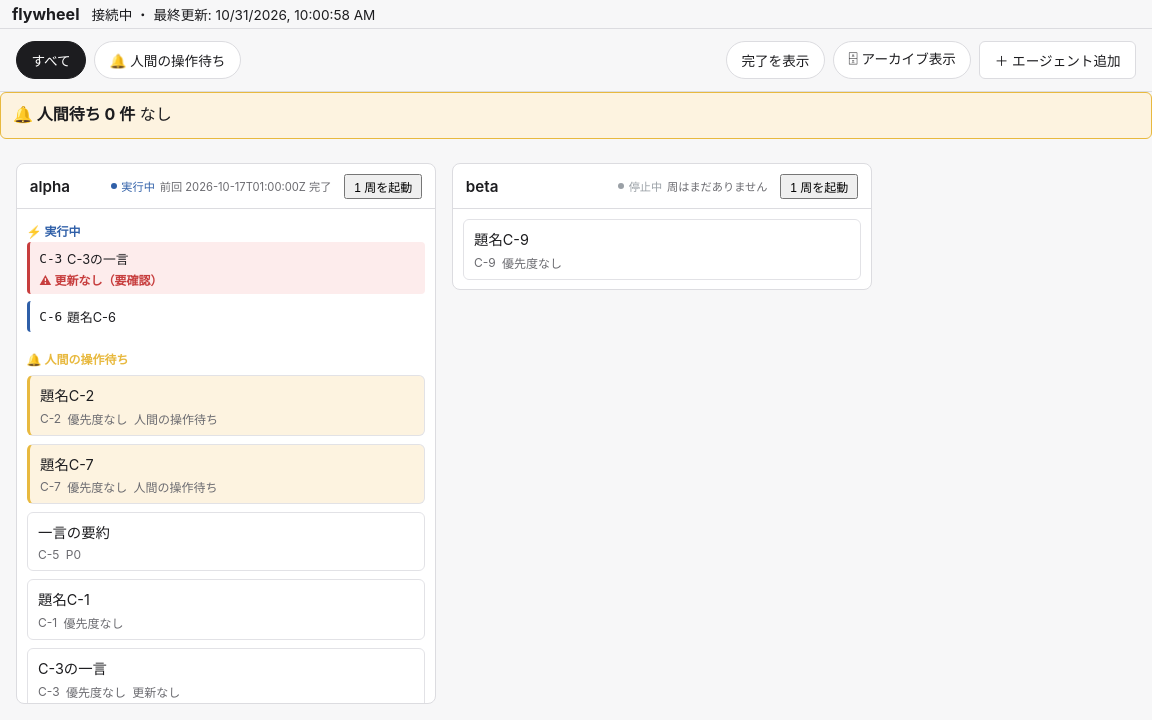
Test case: 「🔔 人間の操作待ち」で絞り込むと、人間の操作待ちだけが残る
This screenshot has width=1152, height=720.
Expected: the text "題名C-1" is shown, [38,591,90,608]
Click the button "🔔 人間の操作待ち".
click(167, 60)  # box [94,41,241,79]
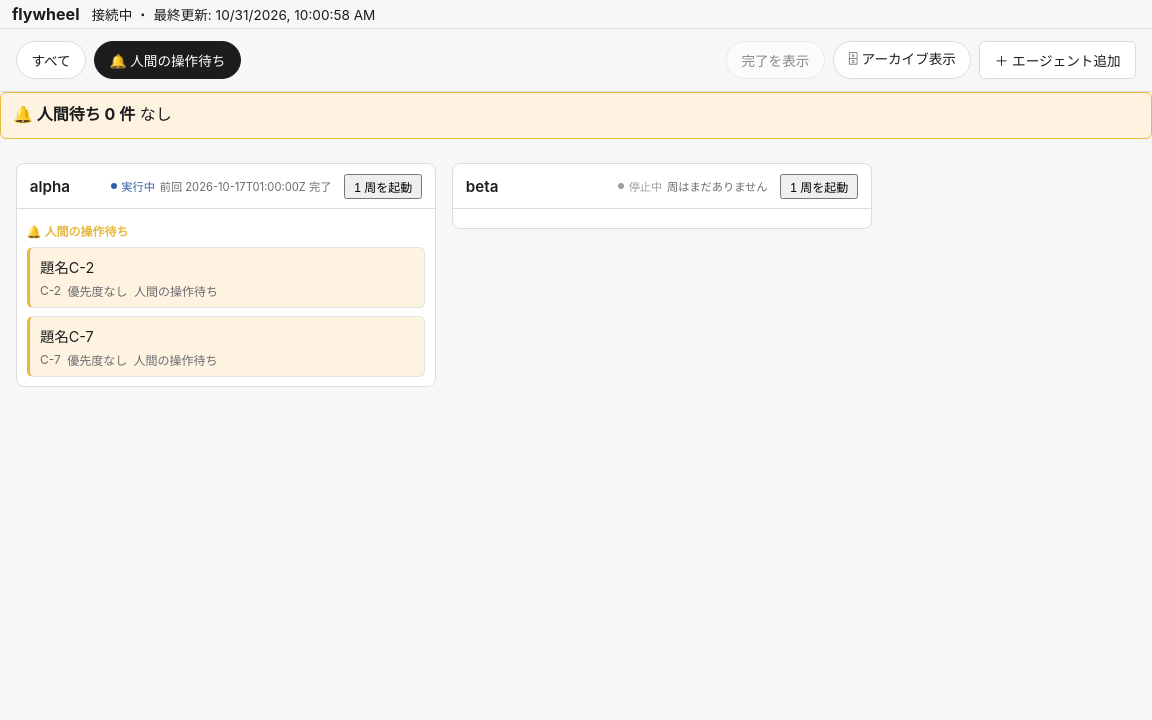
Expected: the text "題名C-2" is shown, [40,259,94,276]
Expected: the button "題名C-1" is gone
Expected: the heading "⚡ 実行中" is gone
